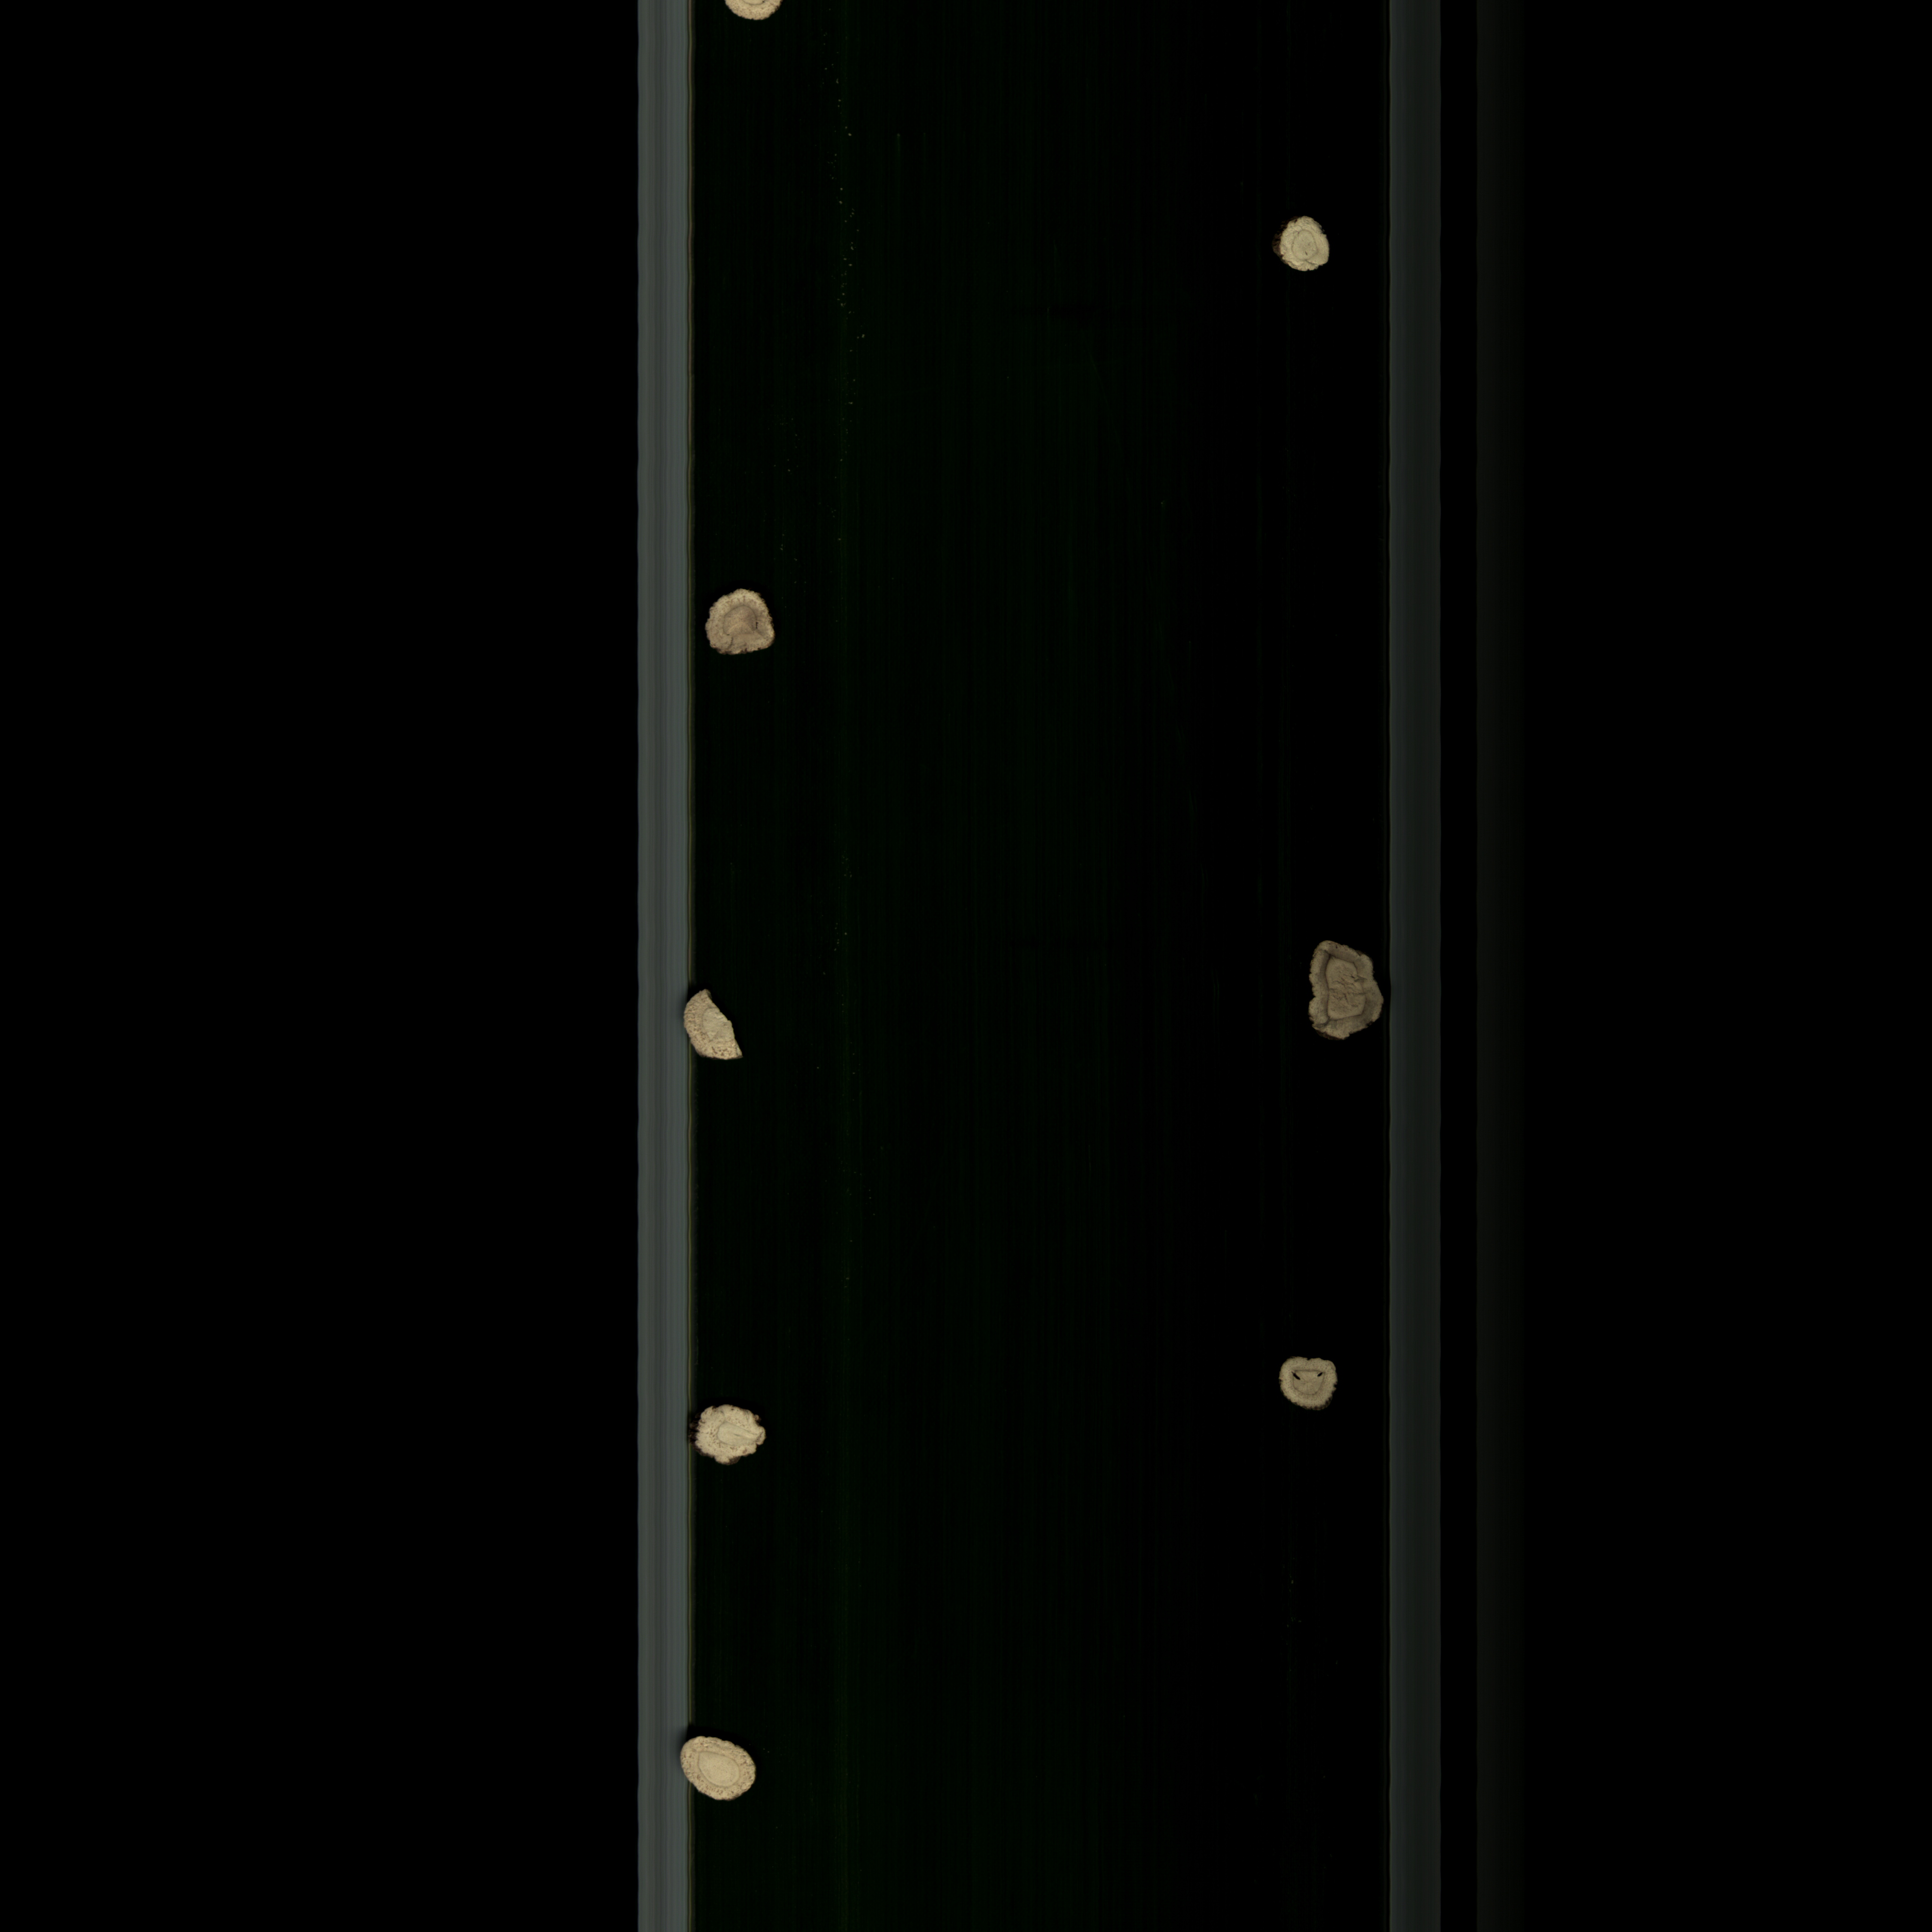debris: (678, 984, 759, 1069), (685, 1399, 778, 1468)
hole: (1265, 1345, 1355, 1426)
moldy: (1276, 929, 1399, 1060), (694, 579, 786, 667)
